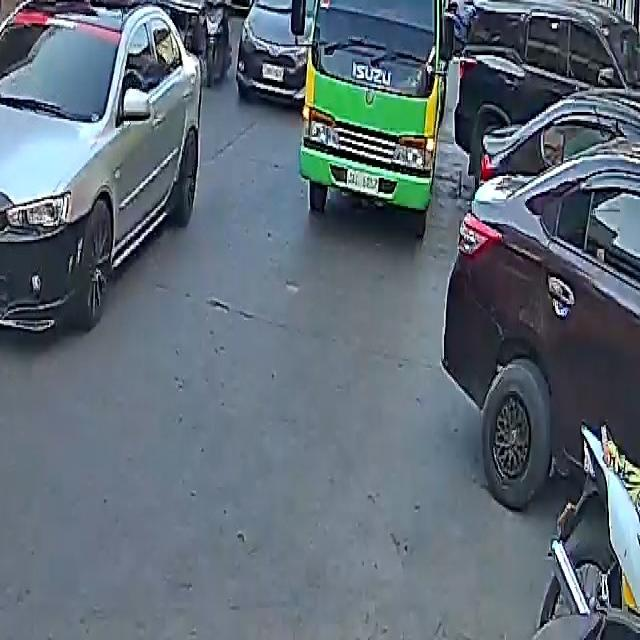car: (443, 76, 640, 521), (0, 0, 208, 334), (442, 0, 639, 197), (235, 0, 325, 105), (71, 0, 200, 44)
